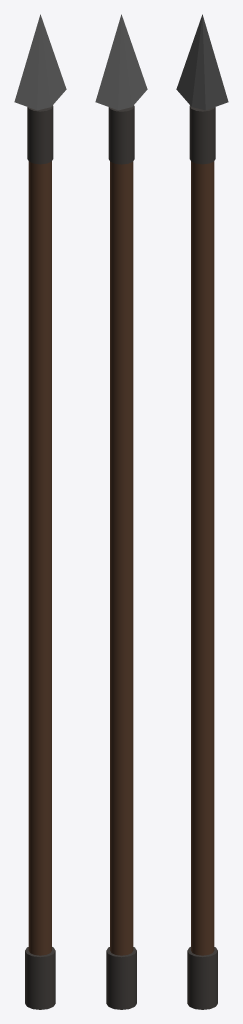
Rendered from Pike.glb.
3 views of the same model, side by side, from view 1: azimuth 30°, elevation 25°; view 2: azimuth 210°, elevation 25°; view 3: azimuth 330°, elevation 25° (orthographic).
Parts seen in each view (by area): view 1: Pike; view 2: Pike; view 3: Pike.
Boxes of the visible parts, bbox=[...] form: Pike: bbox=[14, 14, 66, 1009]; Pike: bbox=[95, 14, 147, 1009]; Pike: bbox=[176, 14, 228, 1009].
Bounding box in the file's own units: 0.0875 × 1.58 × 0.0446.
Materials: 1 (1 with a texture image).
